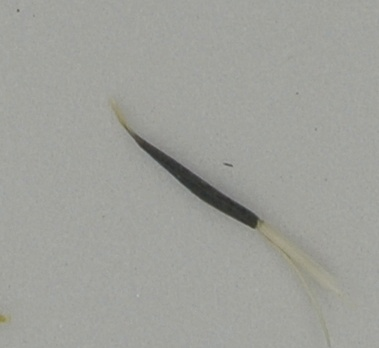เมล็ดดีเรียวยาว: (107, 96, 343, 348)
